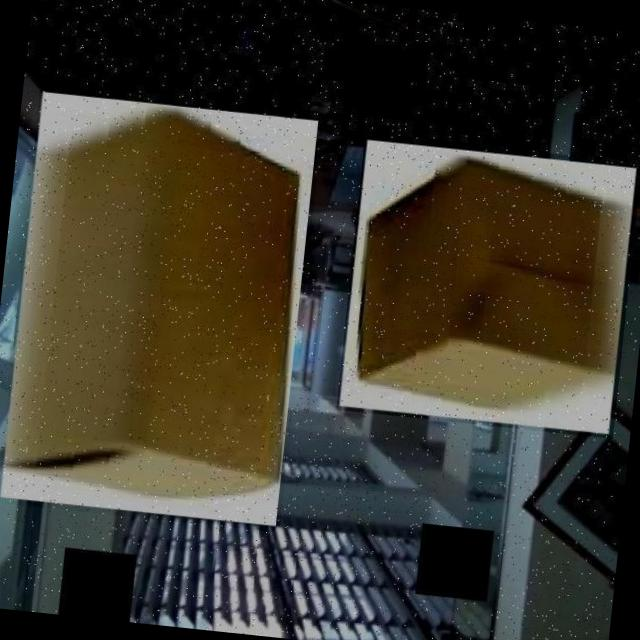box: (0, 83, 323, 532), (335, 133, 640, 439)
